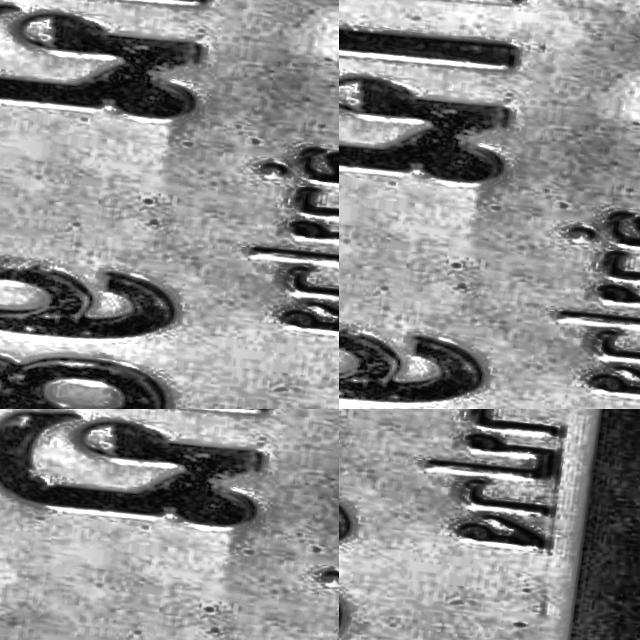license-plate: (339, 409, 640, 640), (0, 0, 125, 140)
